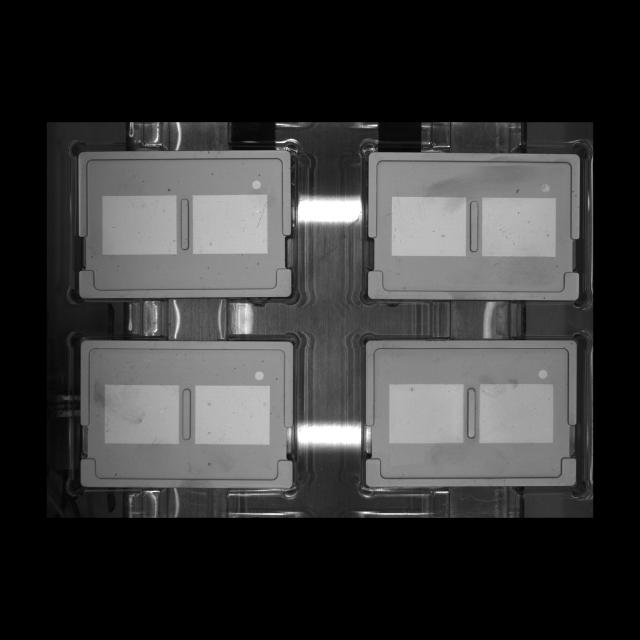product: (357, 135, 590, 308), (67, 330, 301, 497), (70, 140, 302, 307), (357, 331, 589, 498)
